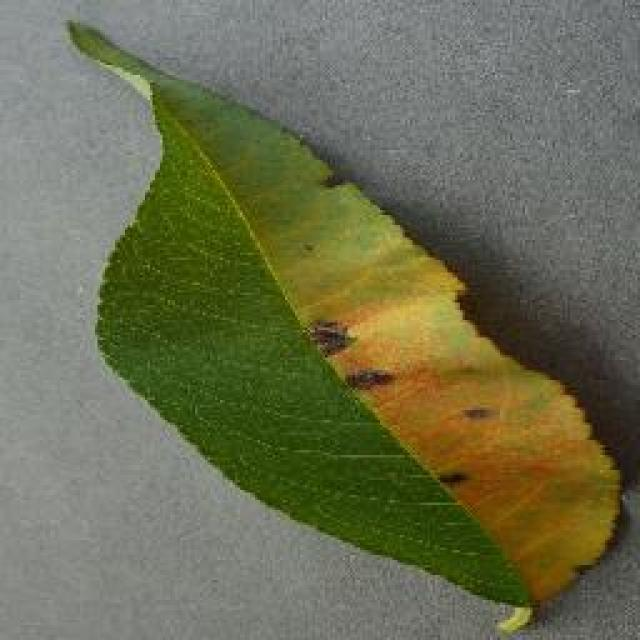Bacterial_spot: (292, 300, 360, 352), (334, 361, 410, 401), (424, 460, 484, 503), (454, 392, 506, 433), (307, 163, 361, 199)
